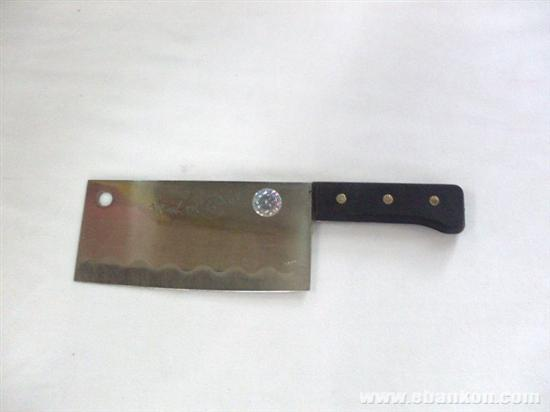knief: (54, 162, 490, 293)
